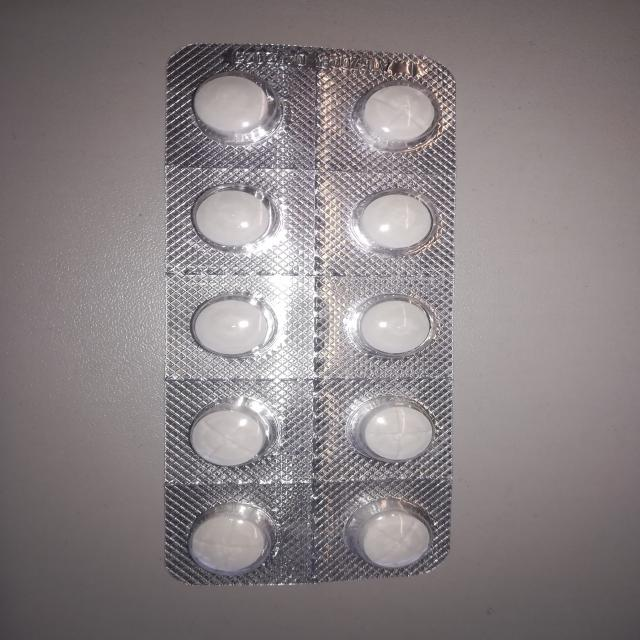Pill: (187, 63, 293, 150), (338, 395, 447, 473), (182, 397, 280, 482), (179, 289, 286, 366), (355, 72, 439, 160), (178, 180, 280, 252), (348, 292, 446, 366), (178, 502, 276, 576), (338, 507, 447, 572), (346, 186, 443, 256)
